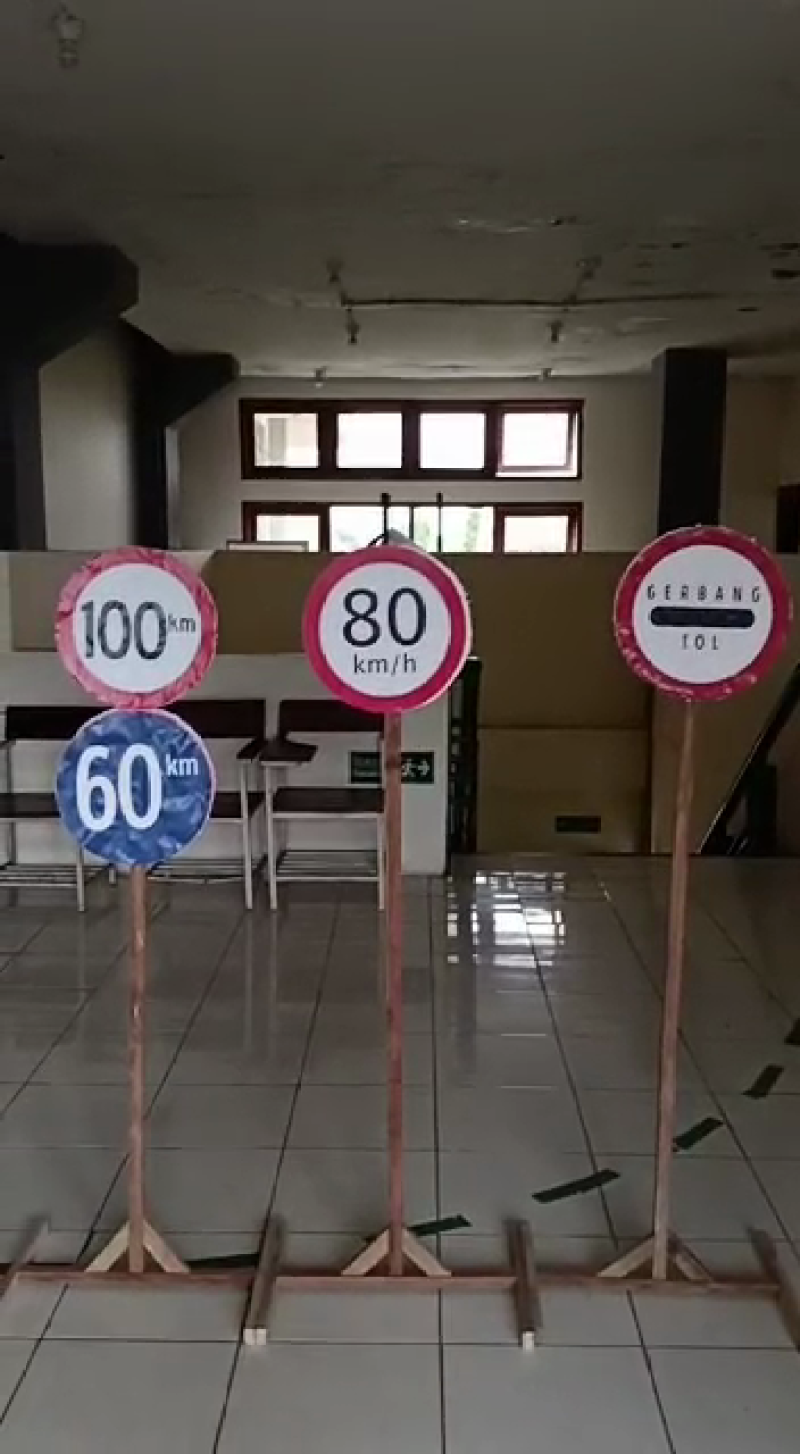batas maksimal 100kmperjam minimal 60kmperjam: (46, 537, 222, 872)
batas maksimal 80kmperjam: (298, 542, 468, 714)
gerbang tol: (616, 518, 779, 696)
